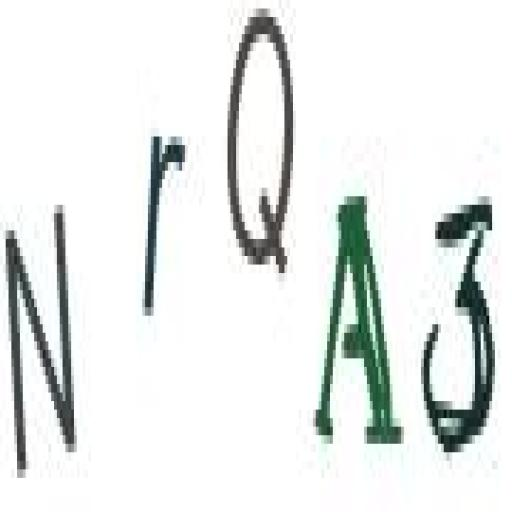3: (422, 180, 507, 472)
A: (313, 178, 403, 470)
N: (2, 186, 81, 493)
Q: (220, 8, 299, 300)
r: (138, 122, 188, 329)
